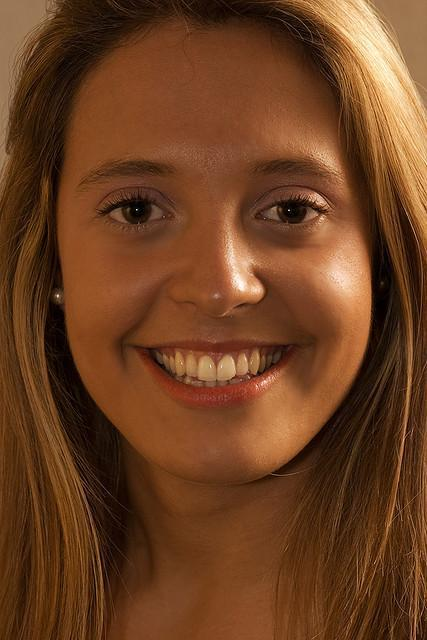Eyebags: (94, 217, 174, 255), (248, 216, 327, 252)
